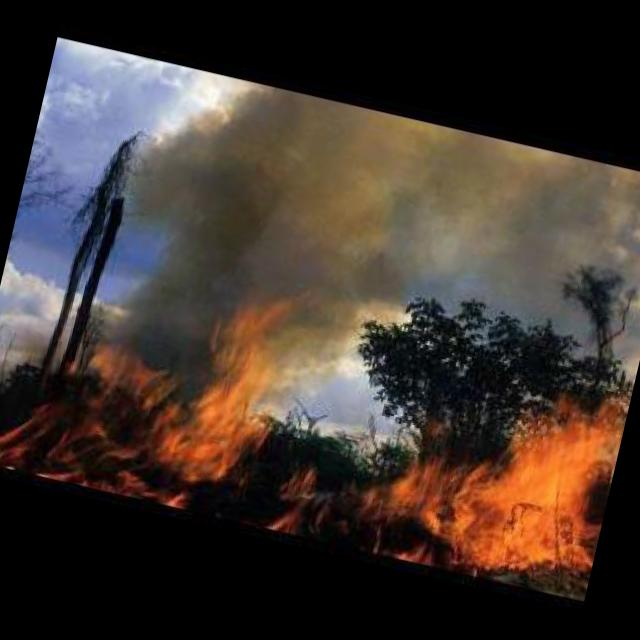fire: (0, 250, 291, 520), (360, 328, 630, 598), (265, 454, 328, 532)
smoke: (103, 60, 590, 364)
